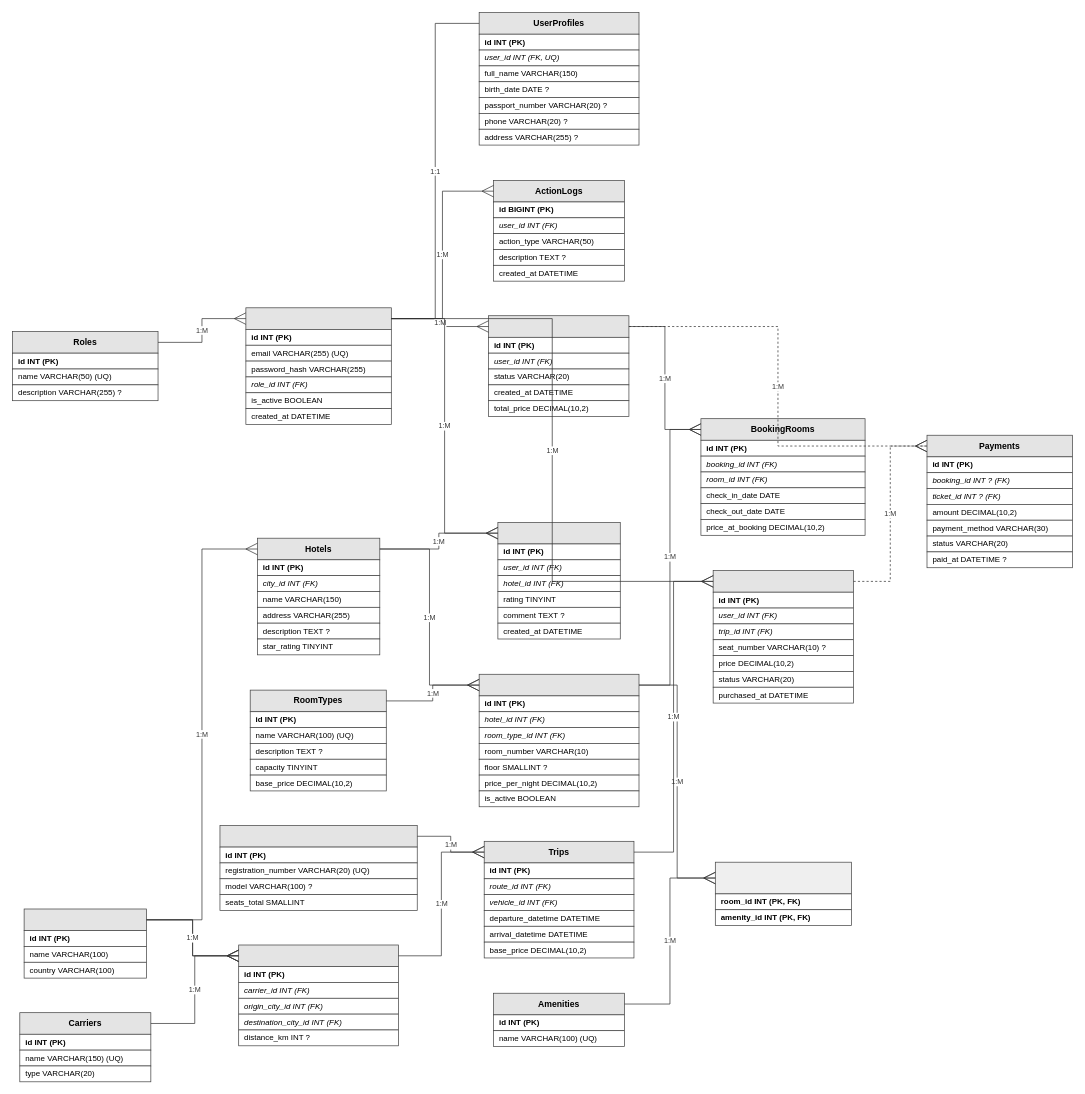
Some shapes in this 1085 by 1094 pixel diagram are drawn without their labels. The centre of each missing label's shape, as x and y in pixels:
"Bookings" belongs at [558,326].
"Cities" belongs at [85,919].
"Reviews" belongs at [558,533].
"RoomAmenities (связующая таблица)" belongs at [783,877].
"Rooms" belongs at [558,685].
"Routes" belongs at [318,955].
"Tickets" belongs at [783,581].
"Users" belongs at [318,318].
"Vehicles" belongs at [318,836].
